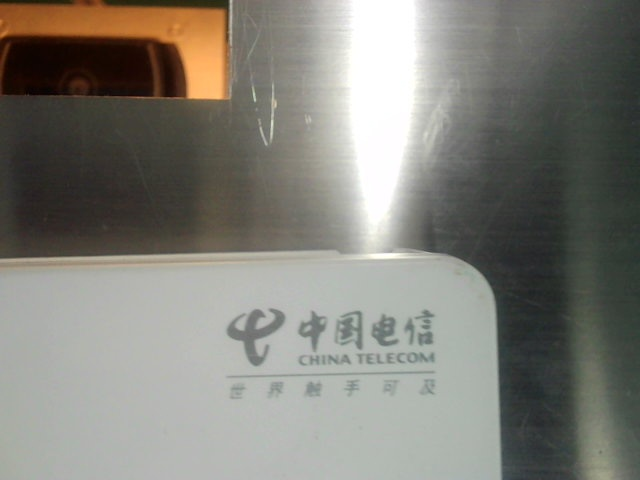AB_ChinaTelecom: (214, 300, 446, 402)
